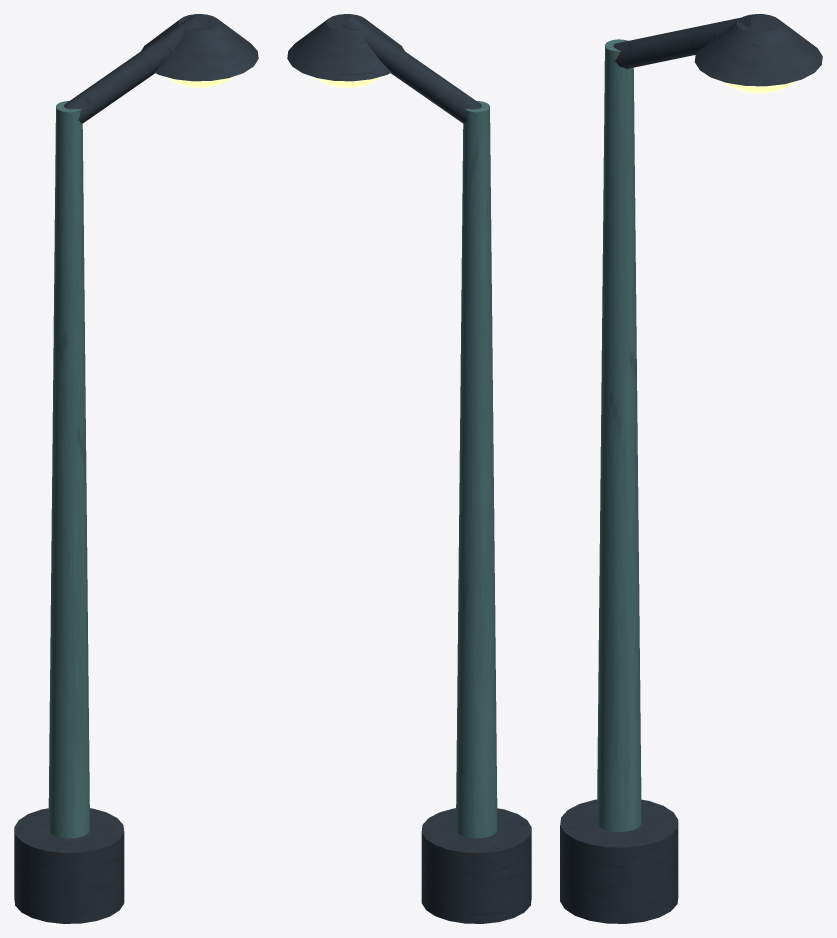
The model's file is StreetLamp.glb.
3 renders of one model, left to right at view 1: azimuth 30°, elevation 25°; view 2: azimuth 150°, elevation 25°; view 3: azimuth 330°, elevation 25°, orthographic. The views are drawn at different scales.
Parts seen in each view (by area): view 1: Pole, Base, Shade, Arm; view 2: Pole, Base, Shade, Arm; view 3: Pole, Base, Shade, Arm.
Boxes of the visible parts, x1,y1,x2,y2 form: Pole: (48,101,89,838); Base: (14,808,124,923); Shade: (141,14,258,81); Arm: (64,16,202,123); Pole: (456,101,497,838); Base: (421,808,531,923); Shade: (287,14,404,81); Arm: (343,16,481,123); Pole: (597,39,641,831); Base: (560,799,678,923); Shade: (694,14,822,86); Arm: (613,14,762,68).
Size of the model in its own units: 1.15 by 4.08 by 0.52.
3 materials, 3 textured.
